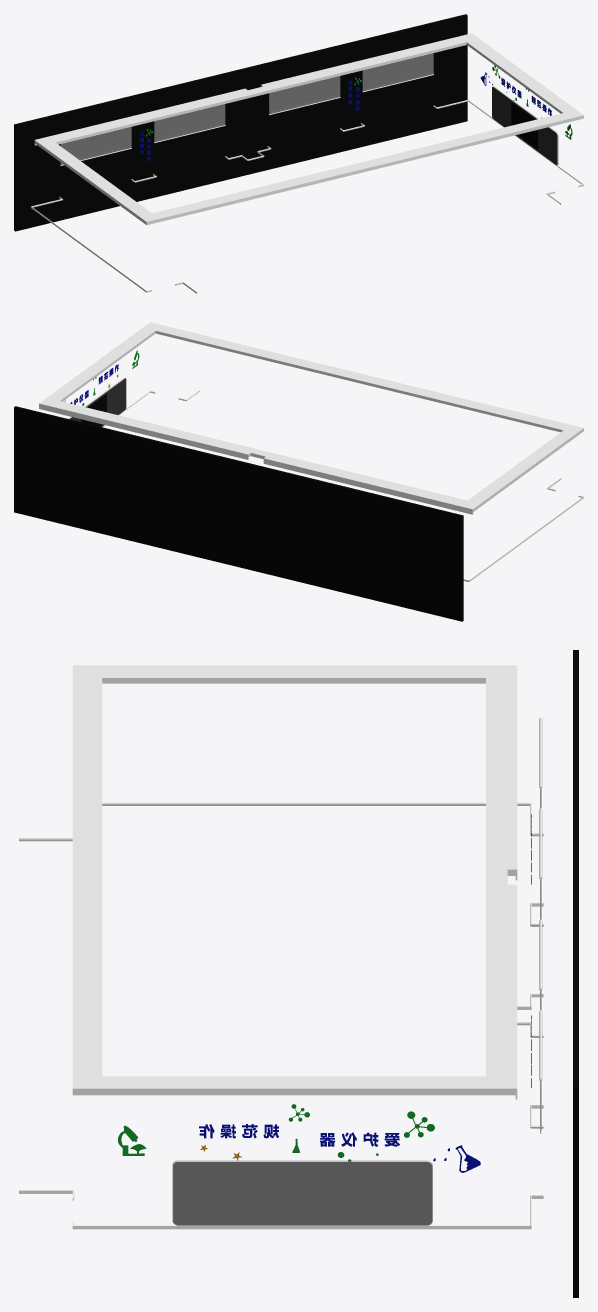
3 views of the same model, one above another, from view 1: azimuth 30°, elevation 25°; view 2: azimuth 150°, elevation 25°; view 3: azimuth 270°, elevation 25° (orthographic). The views are drawn at different scales.
Parts seen in each view (by area): view 1: Obj3d66-1109493-976-398, Obj3d66-1109493-679-984, Obj3d66-1109493-667-196, Obj3d66-1109493-981-874, Obj3d66-1109493-977-391, Obj3d66-1109493-984-959, Obj3d66-1109493-987-352, Obj3d66-1109493-677-756, Obj3d66-1109493-680-90, Obj3d66-1109493-678-934; view 2: Obj3d66-1109493-976-398, Obj3d66-1109493-679-984, Obj3d66-1109493-678-934, Obj3d66-1109493-667-196, Obj3d66-1109493-677-756; view 3: Obj3d66-1109493-679-984, Obj3d66-1109493-667-196, Obj3d66-1109493-677-756, Obj3d66-1109493-976-398, Obj3d66-1109493-678-934, Obj3d66-1109493-680-90, Obj3d66-1109493-671-477.
Part boxes in pixels (left/top/right/bottom): Obj3d66-1109493-976-398: left=14, top=14, right=467, bottom=231; Obj3d66-1109493-679-984: left=35, top=33, right=583, bottom=224; Obj3d66-1109493-667-196: left=492, top=86, right=558, bottom=165; Obj3d66-1109493-981-874: left=269, top=76, right=340, bottom=114; Obj3d66-1109493-977-391: left=362, top=53, right=433, bottom=91; Obj3d66-1109493-984-959: left=154, top=104, right=225, bottom=142; Obj3d66-1109493-987-352: left=60, top=127, right=131, bottom=164; Obj3d66-1109493-677-756: left=31, top=100, right=583, bottom=293; Obj3d66-1109493-680-90: left=35, top=45, right=583, bottom=224; Obj3d66-1109493-678-934: left=34, top=33, right=471, bottom=145; Obj3d66-1109493-976-398: left=14, top=406, right=463, bottom=621; Obj3d66-1109493-679-984: left=40, top=322, right=583, bottom=511; Obj3d66-1109493-678-934: left=39, top=403, right=473, bottom=514; Obj3d66-1109493-667-196: left=68, top=377, right=126, bottom=426; Obj3d66-1109493-677-756: left=102, top=390, right=583, bottom=581; Obj3d66-1109493-679-984: left=72, top=665, right=515, bottom=1094; Obj3d66-1109493-667-196: left=172, top=1160, right=432, bottom=1225; Obj3d66-1109493-677-756: left=19, top=802, right=543, bottom=1229; Obj3d66-1109493-976-398: left=573, top=650, right=578, bottom=1297; Obj3d66-1109493-678-934: left=515, top=665, right=517, bottom=1099; Obj3d66-1109493-680-90: left=72, top=683, right=515, bottom=1095; Obj3d66-1109493-671-477: left=118, top=1104, right=434, bottom=1161.
Size of the model in its own units: 17366 by 9395 by 3893.
